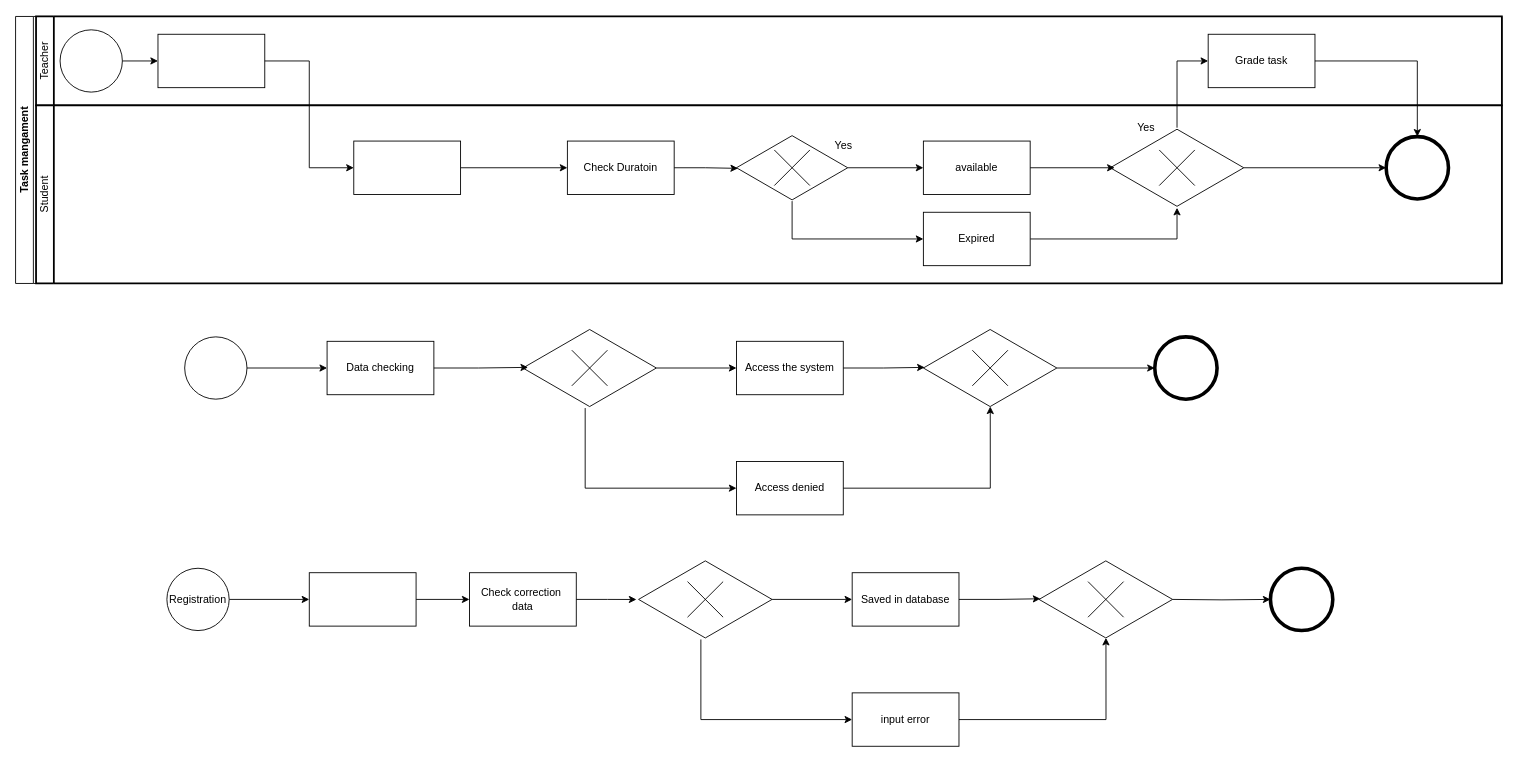
The diagram is 1518 pixels wide and 762 high, and some of its shapes have lost their labels. Here are the shapes that lost their labels. From the top down, the centre of each, then its label:
(90,60): Log in
(211,60): Create task
(407,167): Select task
(215,367): Log in process
(362,599): Data input
